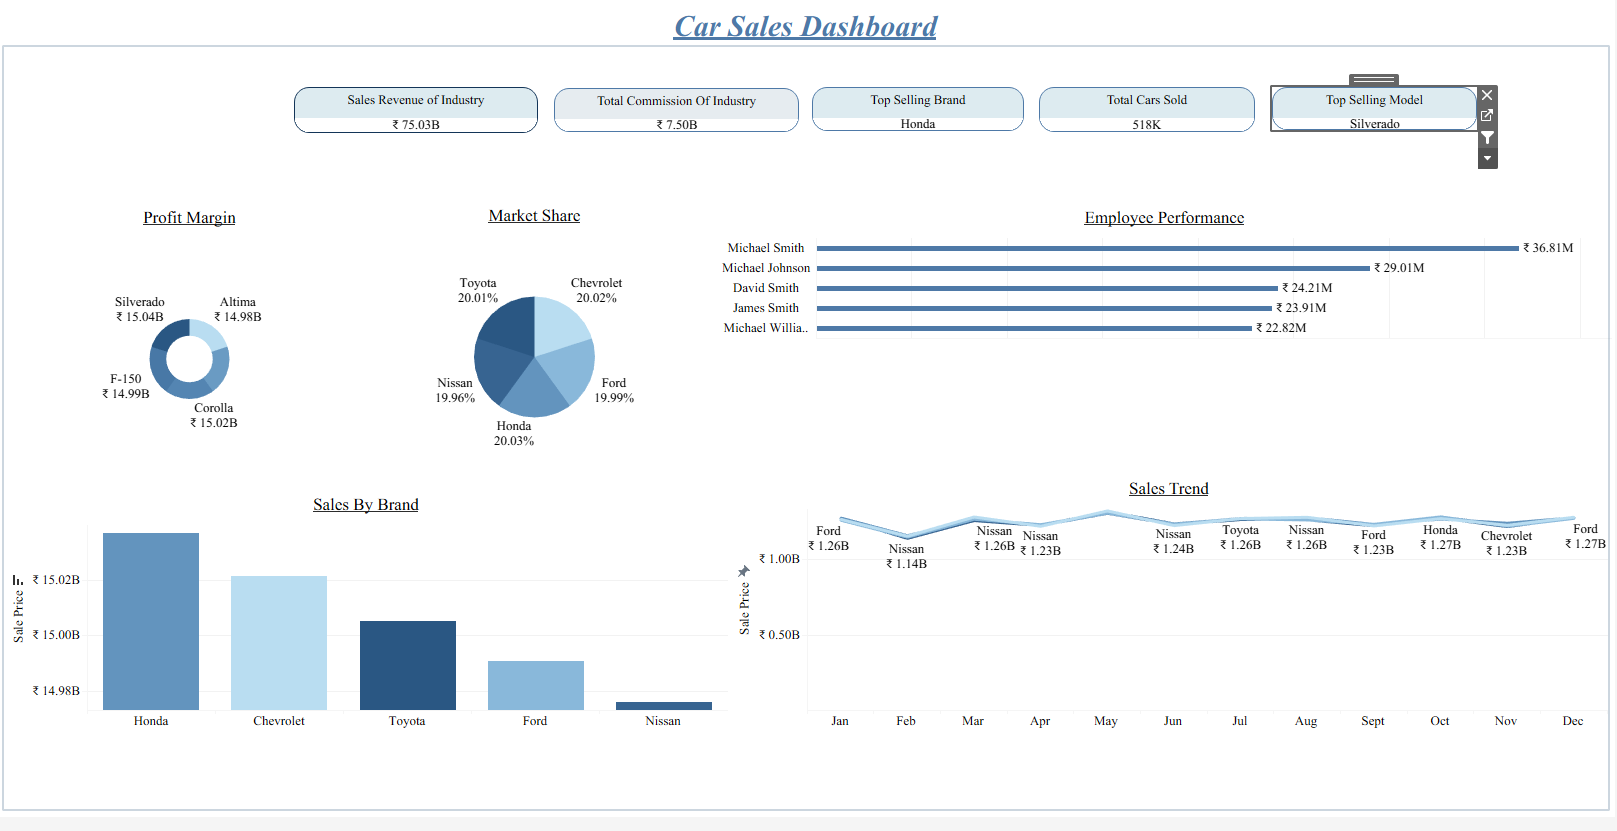

The dashboard page shown, as its layout file describes it:
{"tool":"tableau","page":{"name":"Dashboard 1","canvas":[1320,720],"ordinal":0},"visuals":[{"type":"title","box":[8,8,1304,42]},{"type":"worksheet","title":"Sales Revenue of Industry","mark":"Automatic","box":[12,50,266,64]},{"type":"worksheet","title":"Commission Earned By Industry","mark":"Automatic","box":[282,50,261,62]},{"type":"worksheet","title":"Cars Sold ","mark":"Automatic","box":[547,50,249,62]},{"type":"worksheet","title":"Top Selling Brand","mark":"Automatic","box":[800,51,257,63]},{"type":"worksheet","title":"Top Selling Model","mark":"Automatic","box":[1061,51,245,61]},{"type":"worksheet","title":"Employee Performance","mark":"Automatic","rows":["Salesperson"],"cols":["Sale Price"],"box":[548,116,508,257]},{"type":"worksheet","title":"Sales By Brand","mark":"Automatic","rows":["Sale Price"],"cols":["Car Make"],"box":[12,117,530,258]},{"type":"filter","title":"Sales Trend","param":"[federated.0kc9hoi1jo6zv315qydlp11flbm5].[Action (Car Make)]","box":[1062,120,243,251]},{"type":"worksheet","title":"Sales Trend","mark":"Line","rows":["Sale Price"],"cols":["Date"],"box":[547,375,760,323]},{"type":"worksheet","title":" Profit Margin by Car Model ","mark":"Pie","rows":["Calculation_2005022469431297","Calculation_2005022469505027"],"box":[12,377,265,325]},{"type":"worksheet","title":"Market Share","mark":"Pie","box":[281,377,260,323]}]}

Visuals, with their boxes on the page's 1320x720 design canvas (x1, y1, x2, y2). These are canvas units, not pixel positions in the 1617x831 screenshot, which may show the page scaled, cropped or inside an application window:
title: {"left": 8, "top": 8, "right": 1312, "bottom": 50}
"Sales Revenue of Industry" worksheet: {"left": 12, "top": 50, "right": 278, "bottom": 114}
"Commission Earned By Industry" worksheet: {"left": 282, "top": 50, "right": 543, "bottom": 112}
"Cars Sold " worksheet: {"left": 547, "top": 50, "right": 796, "bottom": 112}
"Top Selling Brand" worksheet: {"left": 800, "top": 51, "right": 1057, "bottom": 114}
"Top Selling Model" worksheet: {"left": 1061, "top": 51, "right": 1306, "bottom": 112}
"Employee Performance" worksheet: {"left": 548, "top": 116, "right": 1056, "bottom": 373}
"Sales By Brand" worksheet: {"left": 12, "top": 117, "right": 542, "bottom": 375}
"Sales Trend" filter: {"left": 1062, "top": 120, "right": 1305, "bottom": 371}
"Sales Trend" worksheet (Line marks): {"left": 547, "top": 375, "right": 1307, "bottom": 698}
" Profit Margin by Car Model " worksheet (Pie marks): {"left": 12, "top": 377, "right": 277, "bottom": 702}
"Market Share" worksheet (Pie marks): {"left": 281, "top": 377, "right": 541, "bottom": 700}
